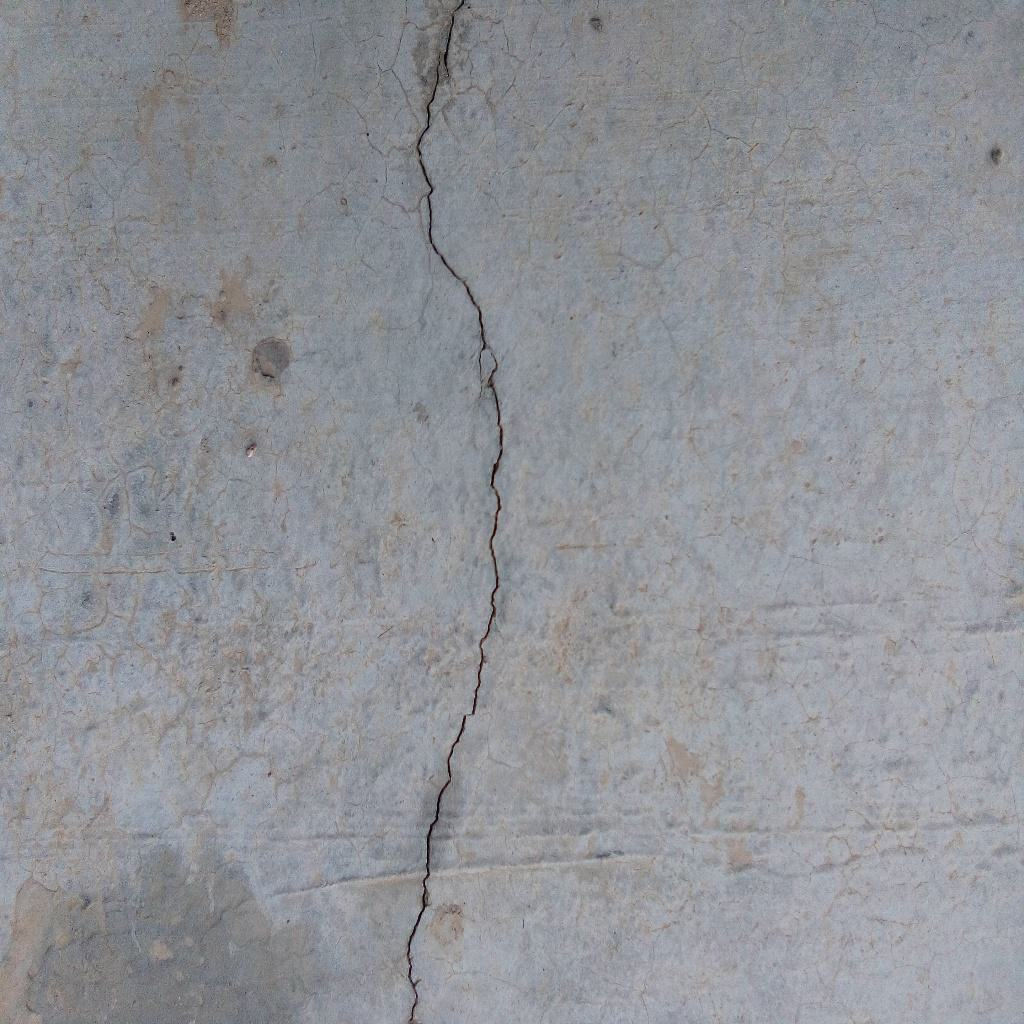Crack: (403, 1, 507, 1024)
